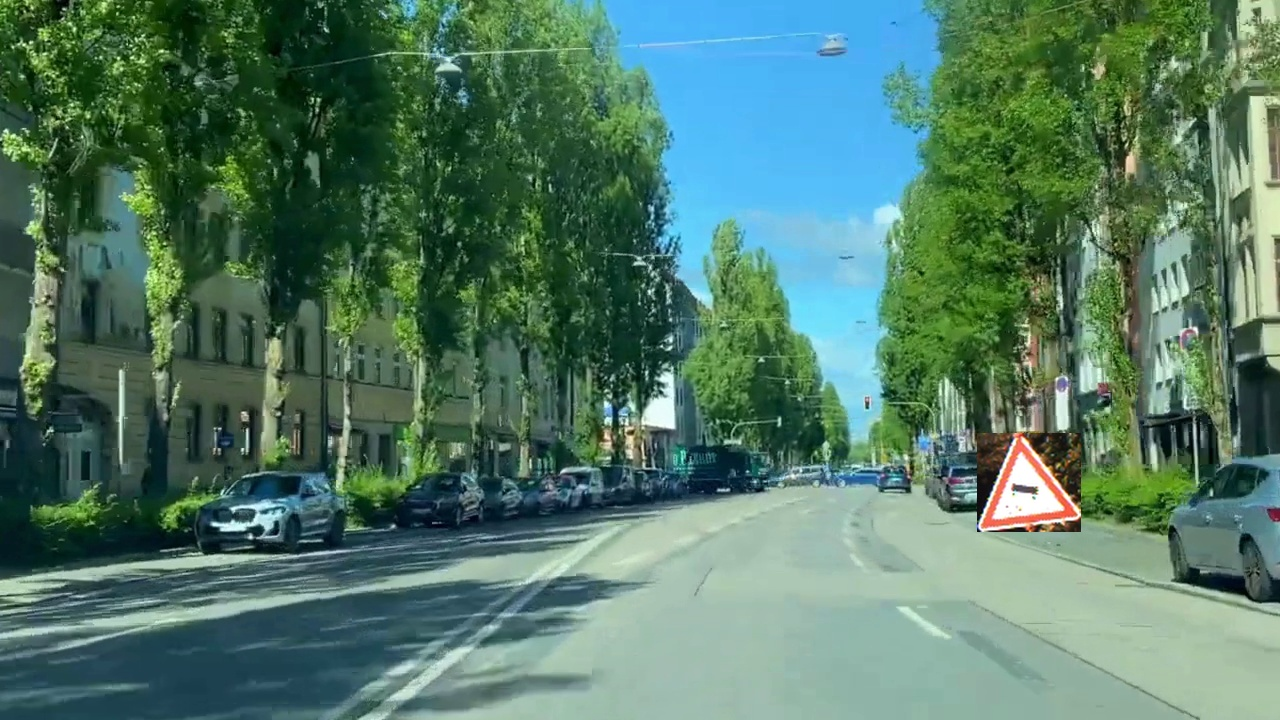Slippery: (977, 433, 1081, 532)
